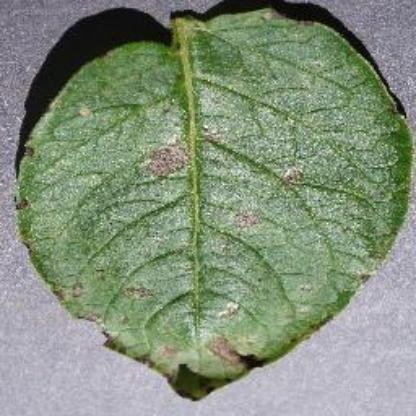Early-Blight: (16, 0, 415, 402)
